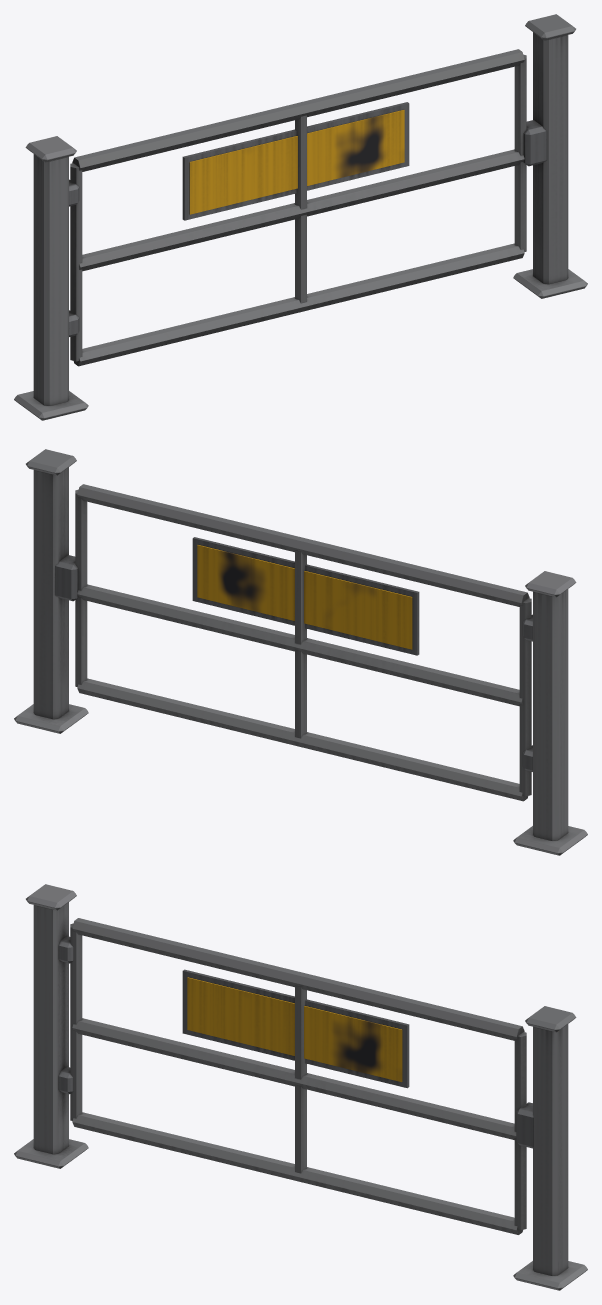
Rendered from nodexeus-set-port-gate.glb.
3 renders of one model, top to bottom at view 1: azimuth 30°, elevation 25°; view 2: azimuth 150°, elevation 25°; view 3: azimuth 330°, elevation 25°, orthographic.
Parts seen in each view (by area): view 1: set-port-gate; view 2: set-port-gate; view 3: set-port-gate.
Part boxes in pixels (x1,y1,x2,y2): set-port-gate: [14, 14, 587, 420]; set-port-gate: [14, 449, 587, 855]; set-port-gate: [14, 884, 587, 1290].
Bounding box in the file's own units: 2.2 × 1 × 0.2.
Materials: 1 (1 with a texture image).
